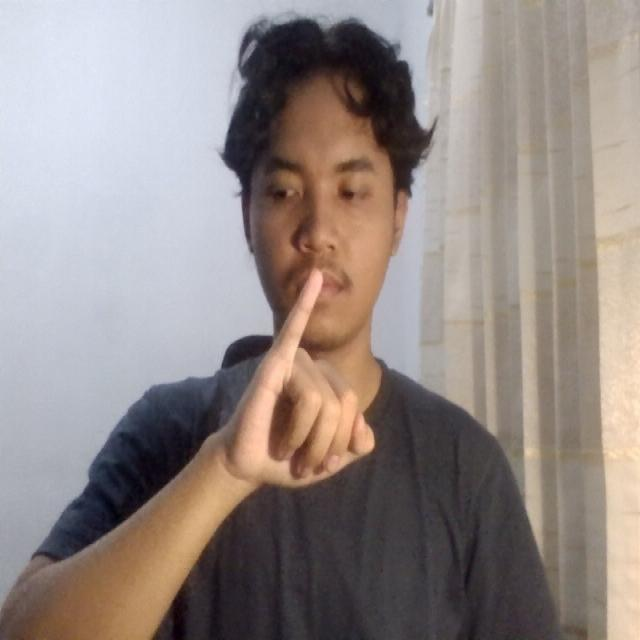Hello: (193, 258, 411, 526)
